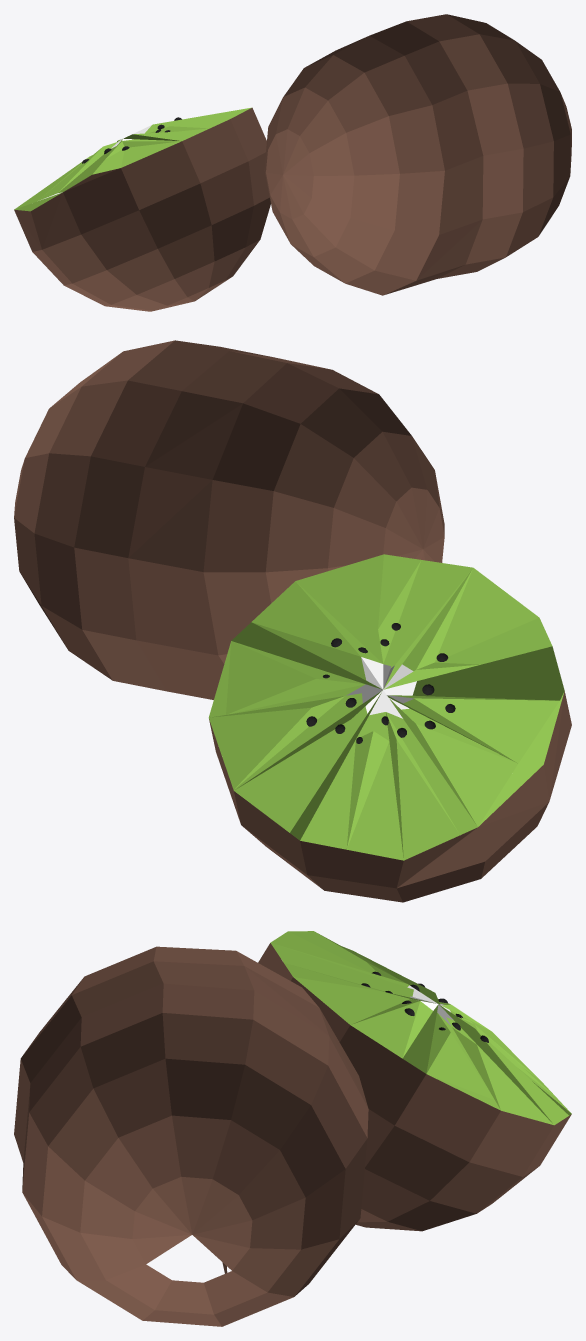
The model's file is kiwi.glb.
3 views of the same model, one above another, from view 1: azimuth 30°, elevation 25°; view 2: azimuth 150°, elevation 25°; view 3: azimuth 270°, elevation 25° (orthographic). The views are drawn at different scales.
Parts seen in each view (by area): view 1: Node; view 2: Node; view 3: Node.
Part boxes in pixels (<box>): Node: <box>14,14,571,311</box>; Node: <box>14,340,571,902</box>; Node: <box>14,931,571,1326</box>.
Bounding box in the file's own units: 0.5459 × 0.3168 × 0.438.
